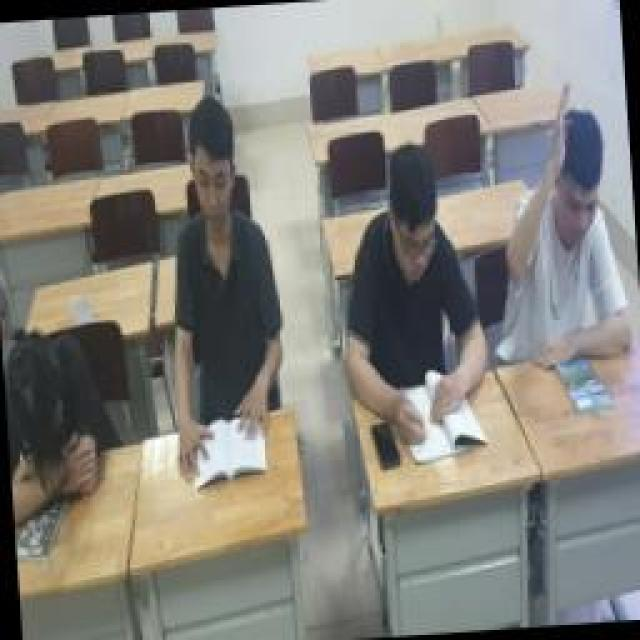sleep: (3, 327, 115, 535)
study: (155, 90, 290, 508), (322, 138, 492, 450), (495, 83, 633, 375)
